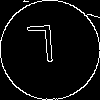L: (25, 25, 57, 72)
